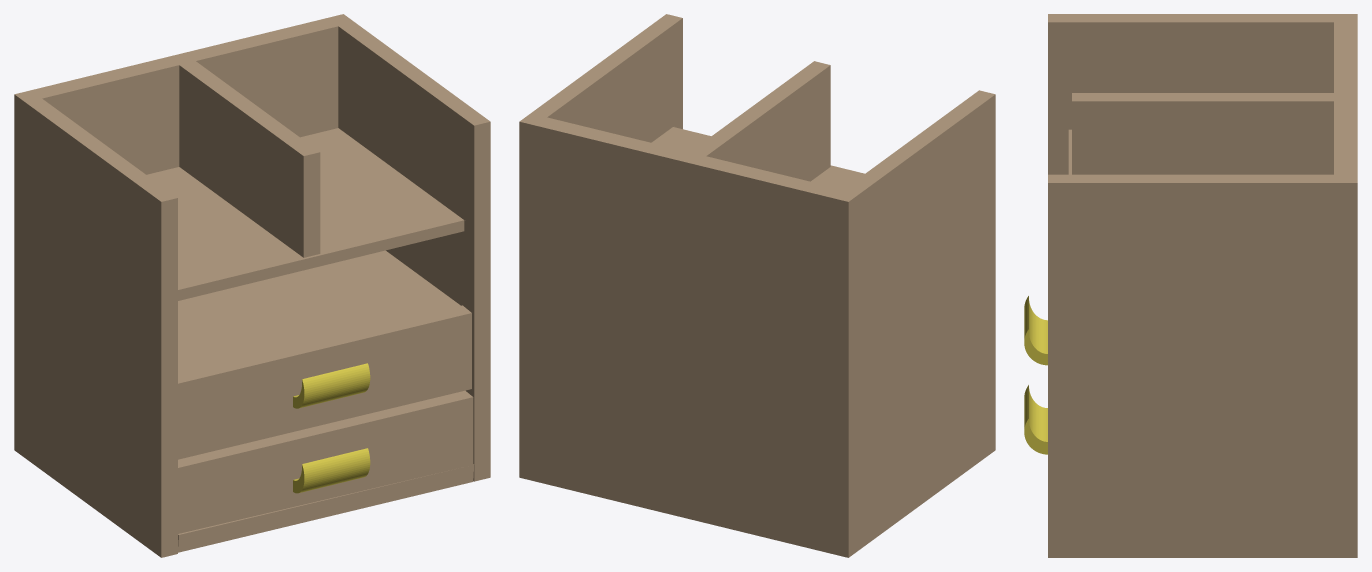
The model's file is cupboard.glb.
3 views of the same model, side by side, from view 1: azimuth 30°, elevation 25°; view 2: azimuth 150°, elevation 25°; view 3: azimuth 270°, elevation 25° (orthographic). The views are drawn at different scales.
Parts seen in each view (by area): view 1: Mesh_Mesh_head_geo.001_lambert2SG.001; view 2: Mesh_Mesh_head_geo.001_lambert2SG.001; view 3: Mesh_Mesh_head_geo.001_lambert2SG.001.
Part boxes in pixels (left/top/right/bottom): Mesh_Mesh_head_geo.001_lambert2SG.001: left=14, top=14, right=490, bottom=557; Mesh_Mesh_head_geo.001_lambert2SG.001: left=519, top=14, right=995, bottom=557; Mesh_Mesh_head_geo.001_lambert2SG.001: left=1024, top=14, right=1357, bottom=557.
Bounding box in the file's own units: 30 × 31 × 25.
